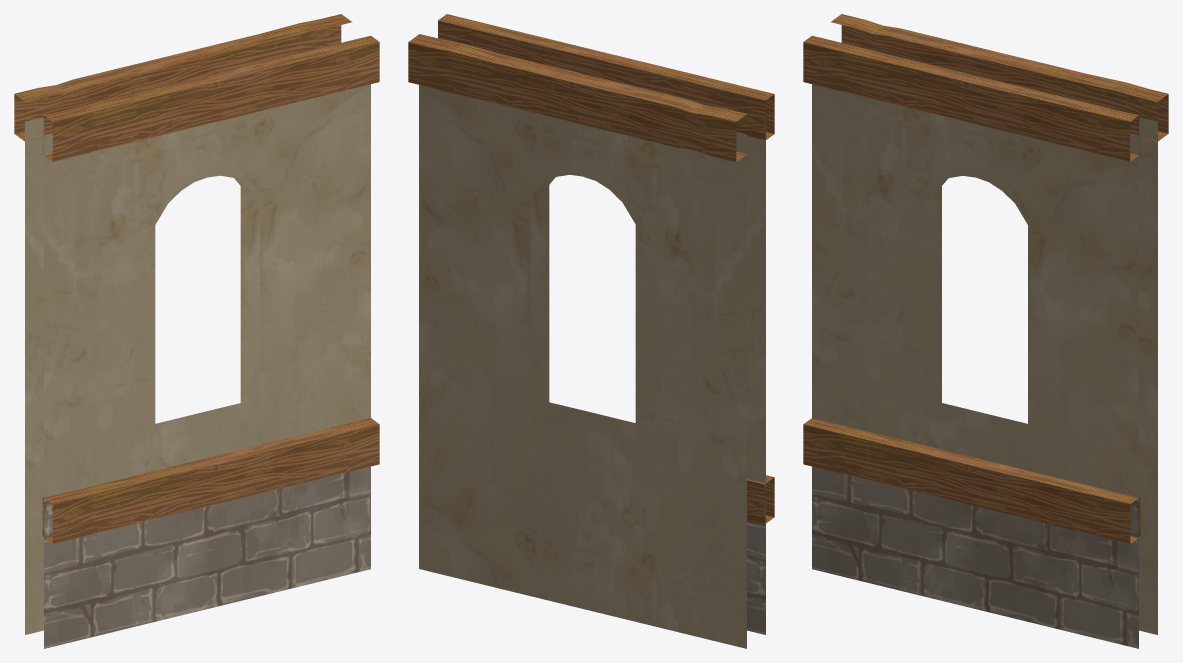
File: Wall_Plaster_Window_Thin_Round.gltf
3 views of the same model, side by side, from view 1: azimuth 30°, elevation 25°; view 2: azimuth 150°, elevation 25°; view 3: azimuth 330°, elevation 25° (orthographic).
Visible parts, largest first — view 1: Wall_Plaster_Window_Thin_Round; view 2: Wall_Plaster_Window_Thin_Round; view 3: Wall_Plaster_Window_Thin_Round.
Part boxes in pixels (x1,y1,x2,y2): Wall_Plaster_Window_Thin_Round: (14, 14, 379, 648); Wall_Plaster_Window_Thin_Round: (408, 14, 774, 648); Wall_Plaster_Window_Thin_Round: (803, 14, 1168, 648).
Bounding box in the file's own units: 2 × 3.12 × 0.4065.
Materials: 3 (3 with a texture image).
